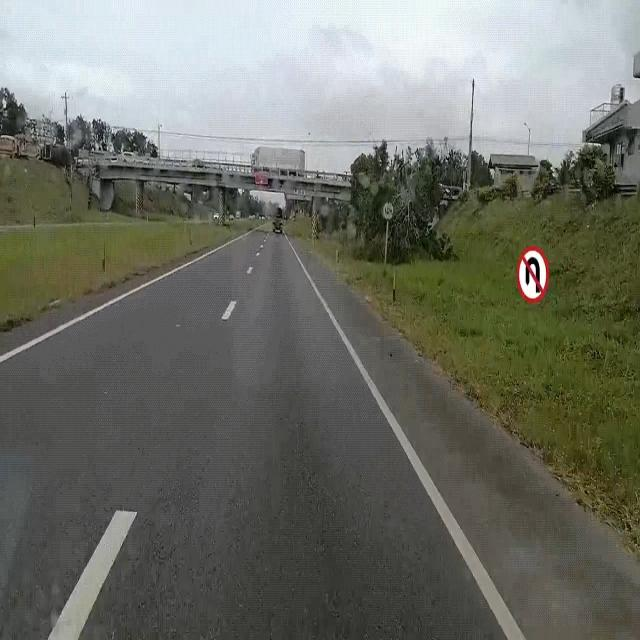Demi-Tour-Interdit: (515, 238, 553, 308)
